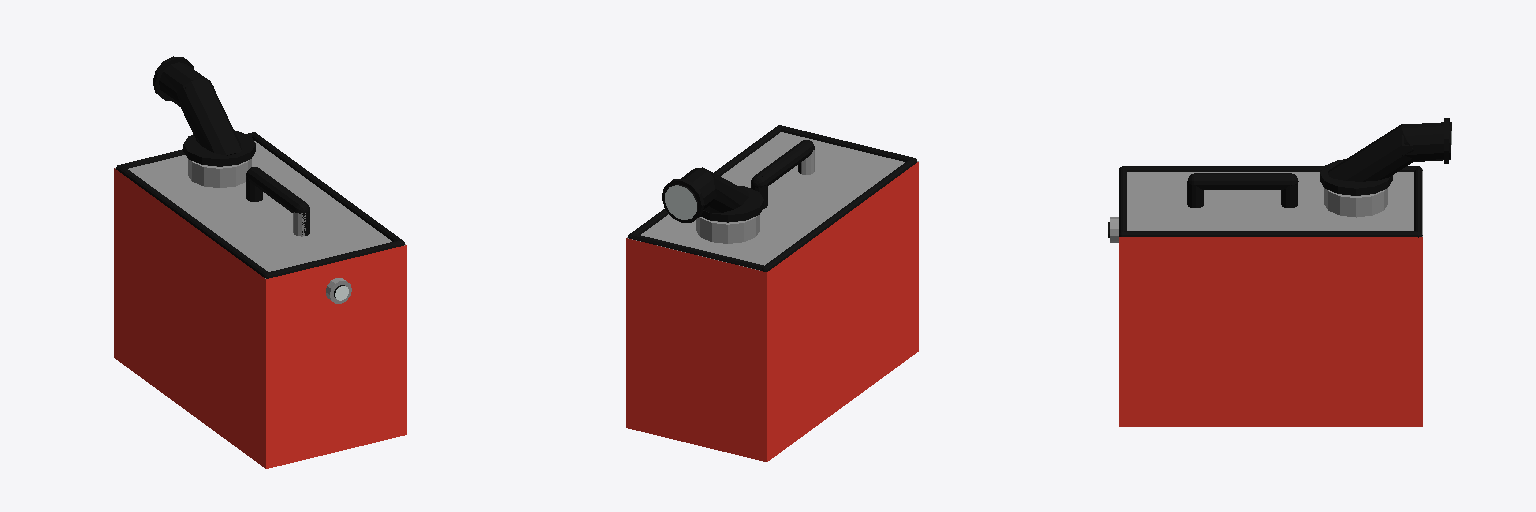
3 renders of one model, left to right at view 1: azimuth 30°, elevation 25°; view 2: azimuth 150°, elevation 25°; view 3: azimuth 270°, elevation 25°, orthographic.
Visible parts, largest first — view 1: group[number redacted], group[number redacted], group[number redacted], group[number redacted], group[number redacted], group[number redacted], group[number redacted]; view 2: group[number redacted], group[number redacted], group[number redacted], group[number redacted], group[number redacted], group[number redacted], group[number redacted], group[number redacted]; view 3: group[number redacted], group[number redacted], group[number redacted], group[number redacted], group[number redacted], group[number redacted].
Boxes of the visible parts, x1=… form: group[number redacted]: x1=114, y1=141, x2=406, y2=468; group[number redacted]: x1=153, y1=56, x2=241, y2=155; group[number redacted]: x1=183, y1=130, x2=255, y2=187; group[number redacted]: x1=246, y1=167, x2=309, y2=236; group[number redacted]: x1=117, y1=165, x2=267, y2=276; group[number redacted]: x1=252, y1=132, x2=402, y2=241; group[number redacted]: x1=268, y1=240, x2=402, y2=277; group[number redacted]: x1=626, y1=132, x2=918, y2=461; group[number redacted]: x1=662, y1=167, x2=748, y2=222; group[number redacted]: x1=696, y1=186, x2=763, y2=243; group[number redacted]: x1=751, y1=140, x2=814, y2=208; group[number redacted]: x1=765, y1=158, x2=915, y2=269; group[number redacted]: x1=780, y1=125, x2=912, y2=161; group[number redacted]: x1=630, y1=126, x2=780, y2=234; group[number redacted]: x1=632, y1=234, x2=763, y2=270; group[number redacted]: x1=1119, y1=169, x2=1422, y2=426; group[number redacted]: x1=1328, y1=118, x2=1451, y2=181; group[number redacted]: x1=1187, y1=173, x2=1298, y2=207; group[number redacted]: x1=1320, y1=159, x2=1392, y2=217; group[number redacted]: x1=1123, y1=231, x2=1417, y2=236; group[number redacted]: x1=1124, y1=166, x2=1417, y2=171.
Bounding box in the file's own units: 0.3803 × 0.7071 × 0.8046.